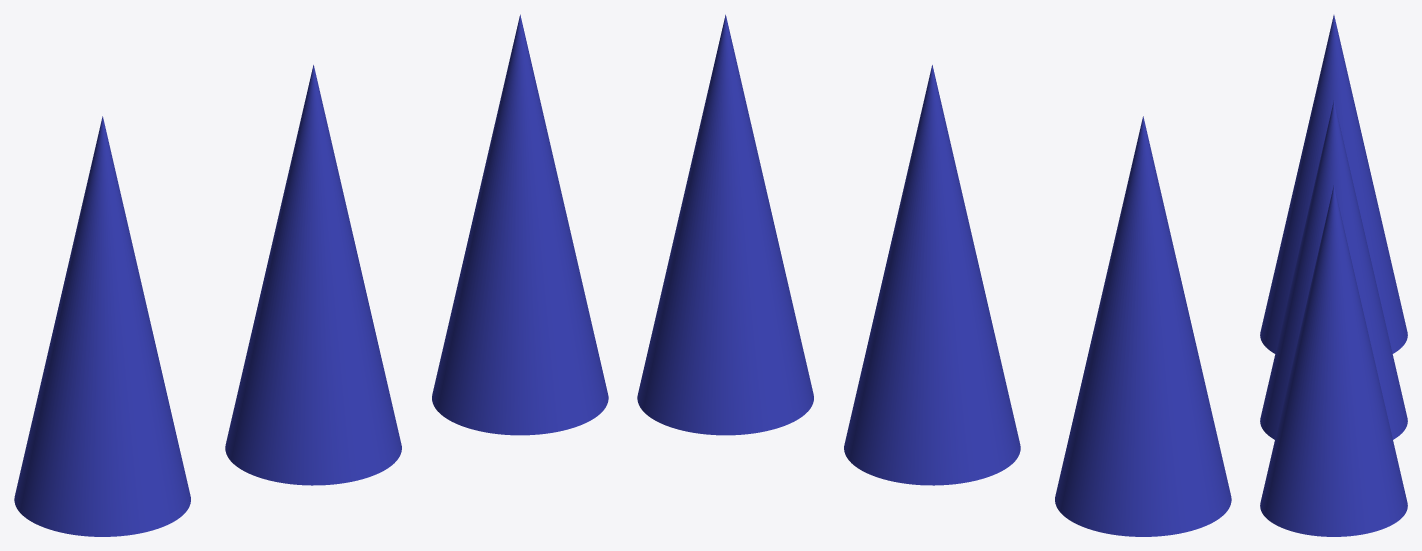
Rendered from trap.fbx.
3 views of the same model, side by side, from view 1: azimuth 30°, elevation 25°; view 2: azimuth 150°, elevation 25°; view 3: azimuth 270°, elevation 25° (orthographic). The views are drawn at different scales.
Parts seen in each view (by area): view 1: root (×3); view 2: root (×3); view 3: root (×3).
Part boxes in pixels (x1,y1,x2,y2): root (×3): (14,14,608,536); root (×3): (637,14,1231,536); root (×3): (1260,15,1407,536).
Bounding box in the file's own units: 17.12 × 11.02 × 4.59.
